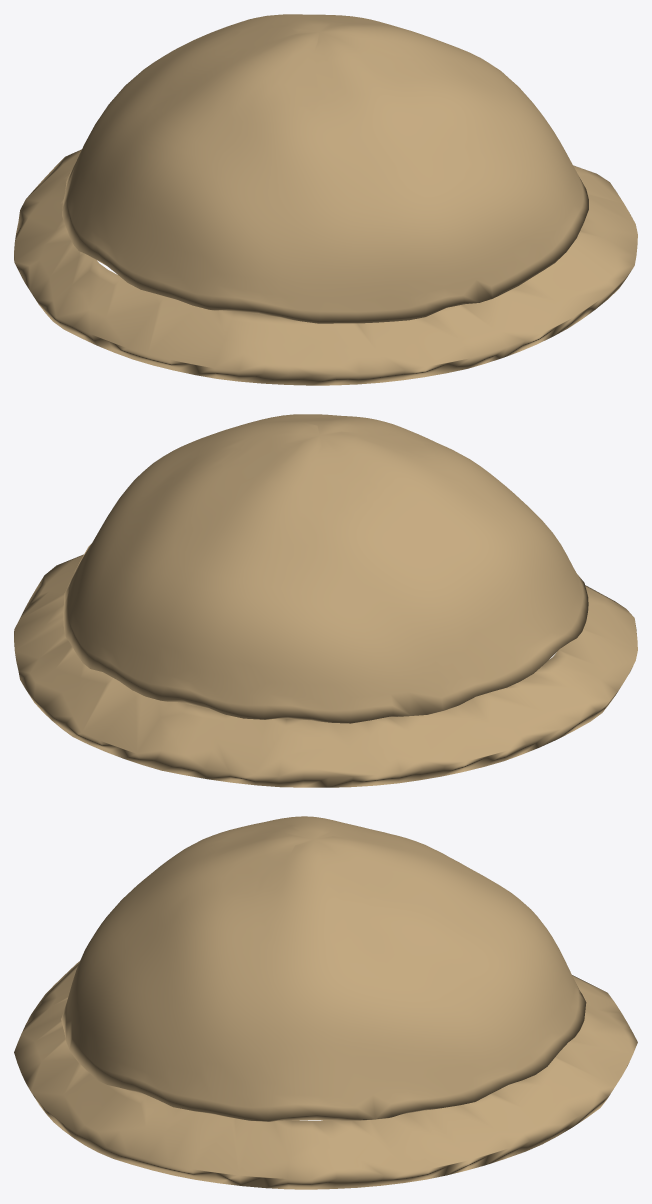
The model's file is 3HT-masculino.glb.
3 views of the same model, one above another, from view 1: azimuth 30°, elevation 25°; view 2: azimuth 150°, elevation 25°; view 3: azimuth 270°, elevation 25° (orthographic).
Parts seen in each view (by area): view 1: crown, shaped-brim; view 2: crown, shaped-brim; view 3: crown, shaped-brim.
Boxes of the visible parts, x1=… form: crown: x1=62, y1=14, x2=588, y2=323; shaped-brim: x1=14, y1=149, x2=637, y2=385; crown: x1=63, y1=414, x2=588, y2=723; shaped-brim: x1=14, y1=554, x2=637, y2=787; crown: x1=61, y1=816, x2=586, y2=1121; shaped-brim: x1=14, y1=961, x2=637, y2=1189.
Bounding box in the file's own units: 0.0507 × 0.0202 × 0.0499.
